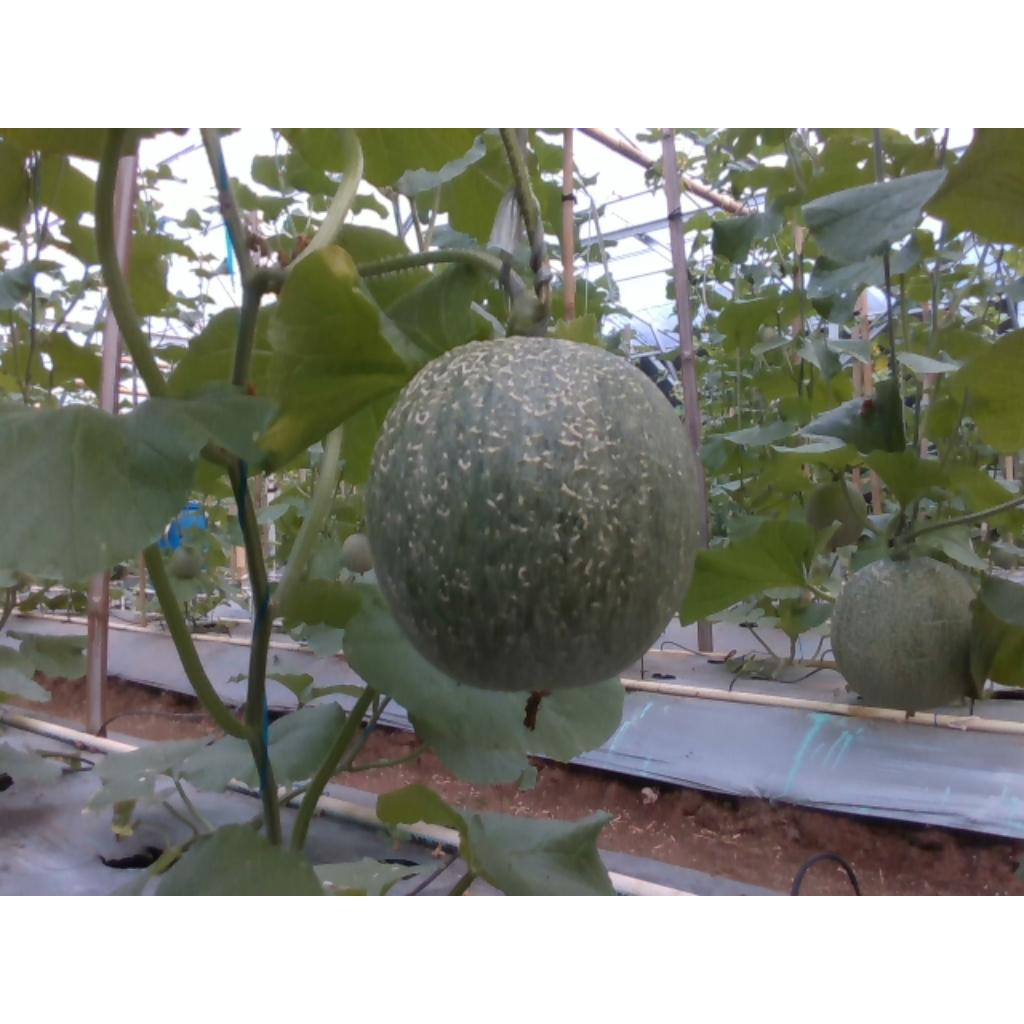melon: (366, 336, 699, 690)
